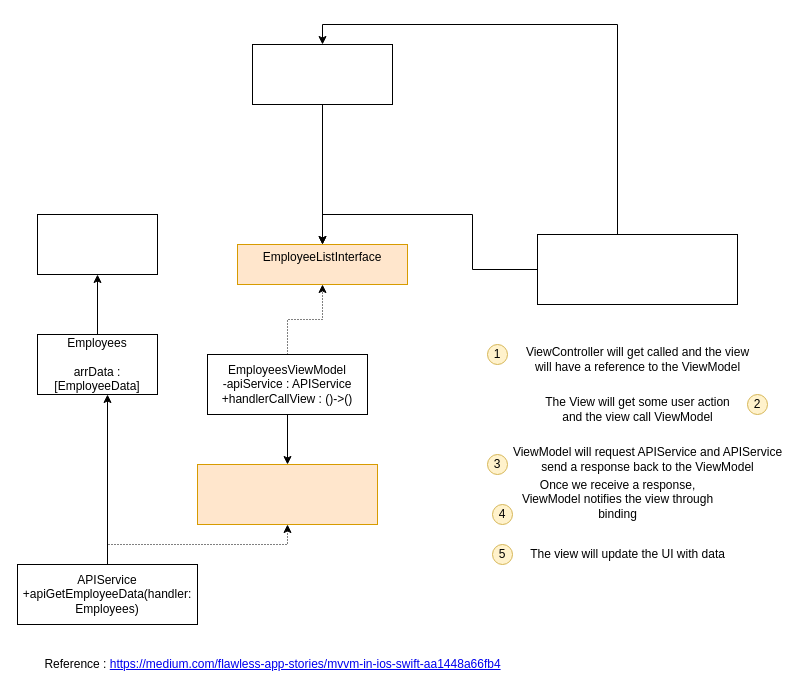
The diagram is 805 pixels wide and 692 high, and some of its shapes have lost their labels. The shapes that lost their labels are listed below. From the top down, each one's centre as x and y in pixels, then its label:
the point at 322,74: tableViewDataSource
the point at 97,244: EmployeeData
the point at 637,269: ViewController (View) objViewModel : EmployeesViewModel
the point at 287,494: Service Interface + getEmployees(handler :(BSEmployees?)->(Void)) -> Void
